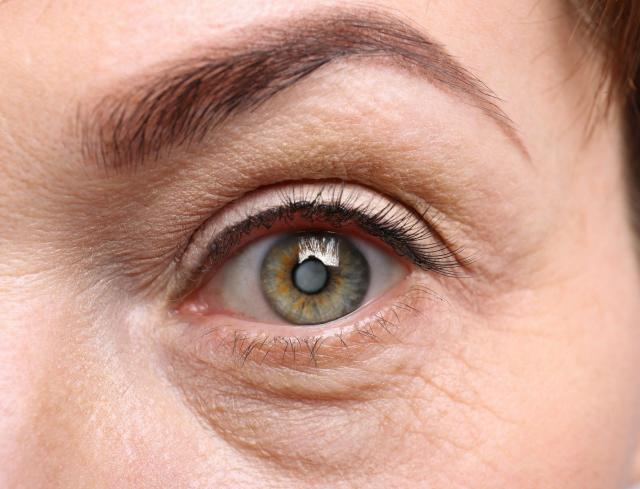eye: (260, 226, 374, 332)
